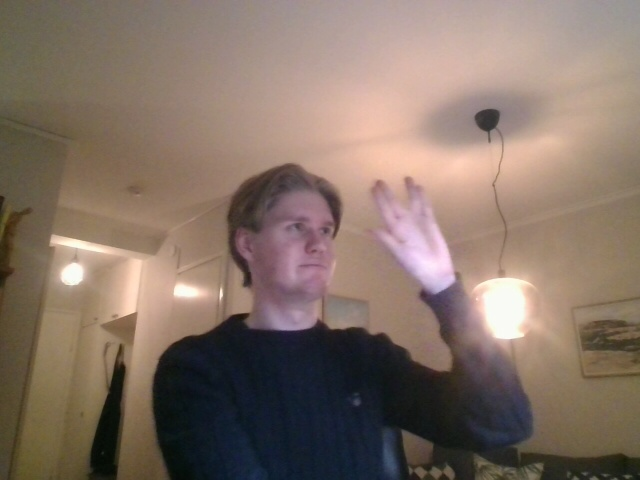LiveLong: (365, 176, 455, 285)
